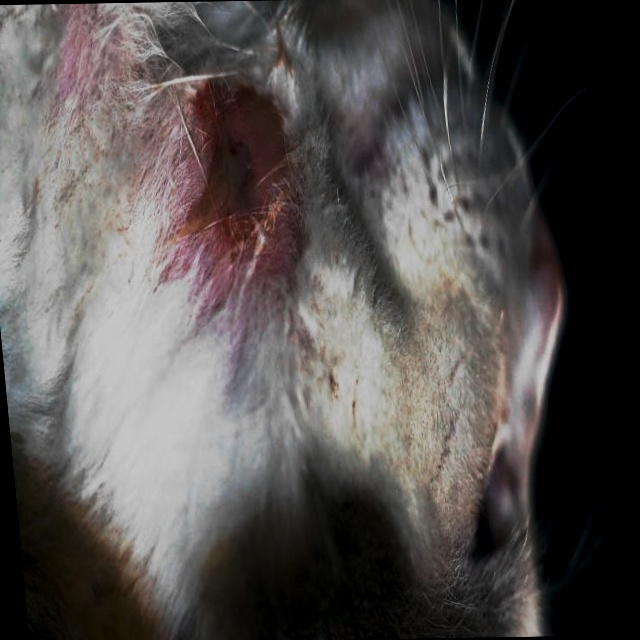lump_and_bump: (195, 78, 305, 275)
